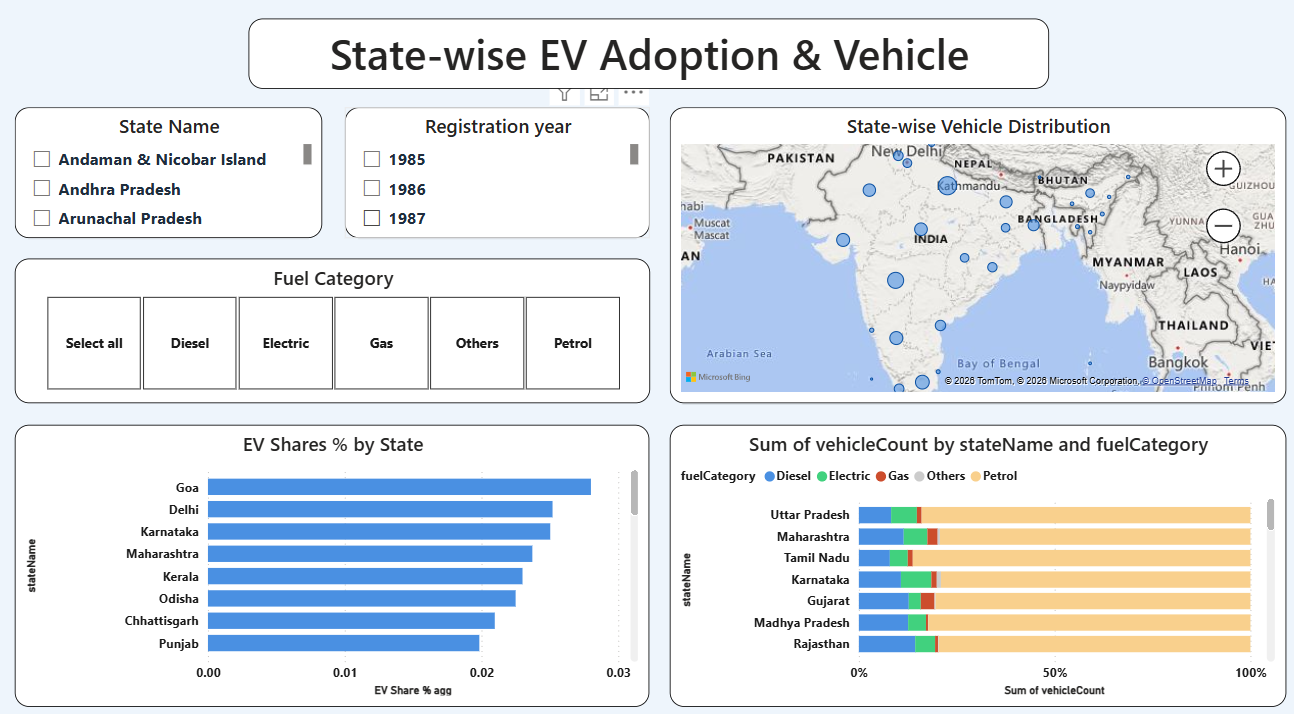

Layout of this report page (visuals, bound fields, positions):
{"tool":"powerbi","page":{"name":"state-wise","canvas":[1280,720],"ordinal":1},"visuals":[{"type":"slicer","title":"Fuel Category","fields":{"Values":["vehicle_agg_cleaned.fuelCategory"]},"box":[17.8,262.1,621.6,141.3],"z":0},{"type":"slicer","title":"Registration year","fields":{"Values":["vehicle_agg_cleaned.registrationMonth.Variation.Date Hierarchy.Year"]},"box":[341.2,113.7,298.4,128.4],"z":1000},{"type":"slicer","title":"State Name","fields":{"Values":["vehicle_agg_cleaned.stateName"]},"box":[18.3,113.7,300.8,128.4],"z":2000},{"type":"map","title":"State-wise Vehicle Distribution","fields":{"Category":["vehicle_agg_cleaned.stateName"],"Size":["Sum(vehicle_agg_cleaned.vehicleCount)"]},"box":[659.1,113.7,602.9,289.8],"z":3000},{"type":"clusteredBarChart","title":"EV Shares % by State","fields":{"Category":["vehicle_raw_cleaned.stateName"],"Y":["vehicle_agg_cleaned.EV Share % agg"]},"box":[18.3,424.3,621.2,276.4],"z":4000},{"type":"hundredPercentStackedBarChart","fields":{"Category":["vehicle_agg_cleaned.stateName"],"Y":["Sum(vehicle_agg_cleaned.vehicleCount)"],"Series":["vehicle_agg_cleaned.fuelCategory"]},"box":[659.1,424.3,602.9,276.4],"z":5000},{"type":"textbox","title":"State-wise EV Adoption & Vehicle Distribution","box":[247.3,26.5,783,68.8],"z":6000}]}

Visuals, with their boxes in screenshot pixels (x1, y1, x2, y2), scaled from the page's 1280x720 canvas onto the 1294x714 screenshot:
"Fuel Category" slicer: [18,260,646,400]
"Registration year" slicer: [345,113,647,240]
"State Name" slicer: [19,113,323,240]
"State-wise Vehicle Distribution" map: [666,113,1276,400]
"EV Shares % by State" clusteredBarChart: [19,421,646,695]
hundredPercentStackedBarChart - vehicle_agg_cleaned.stateName x Sum(vehicle_agg_cleaned.vehicleCount): [666,421,1276,695]
"State-wise EV Adoption & Vehicle Distribution" textbox: [250,26,1042,95]
